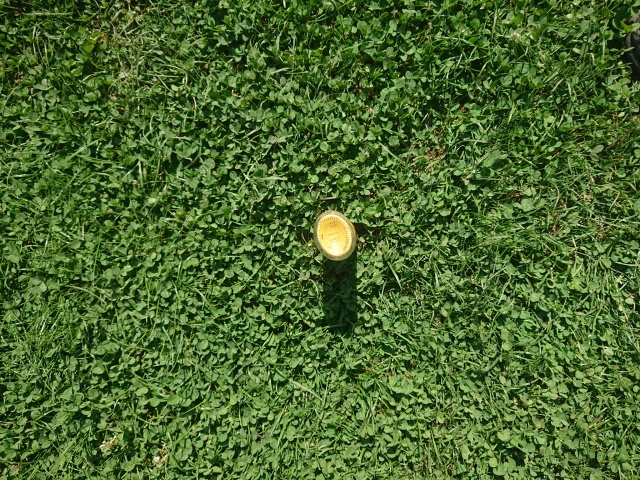Kotanyi Curry Spices Mix 70g: (310, 208, 359, 261)
